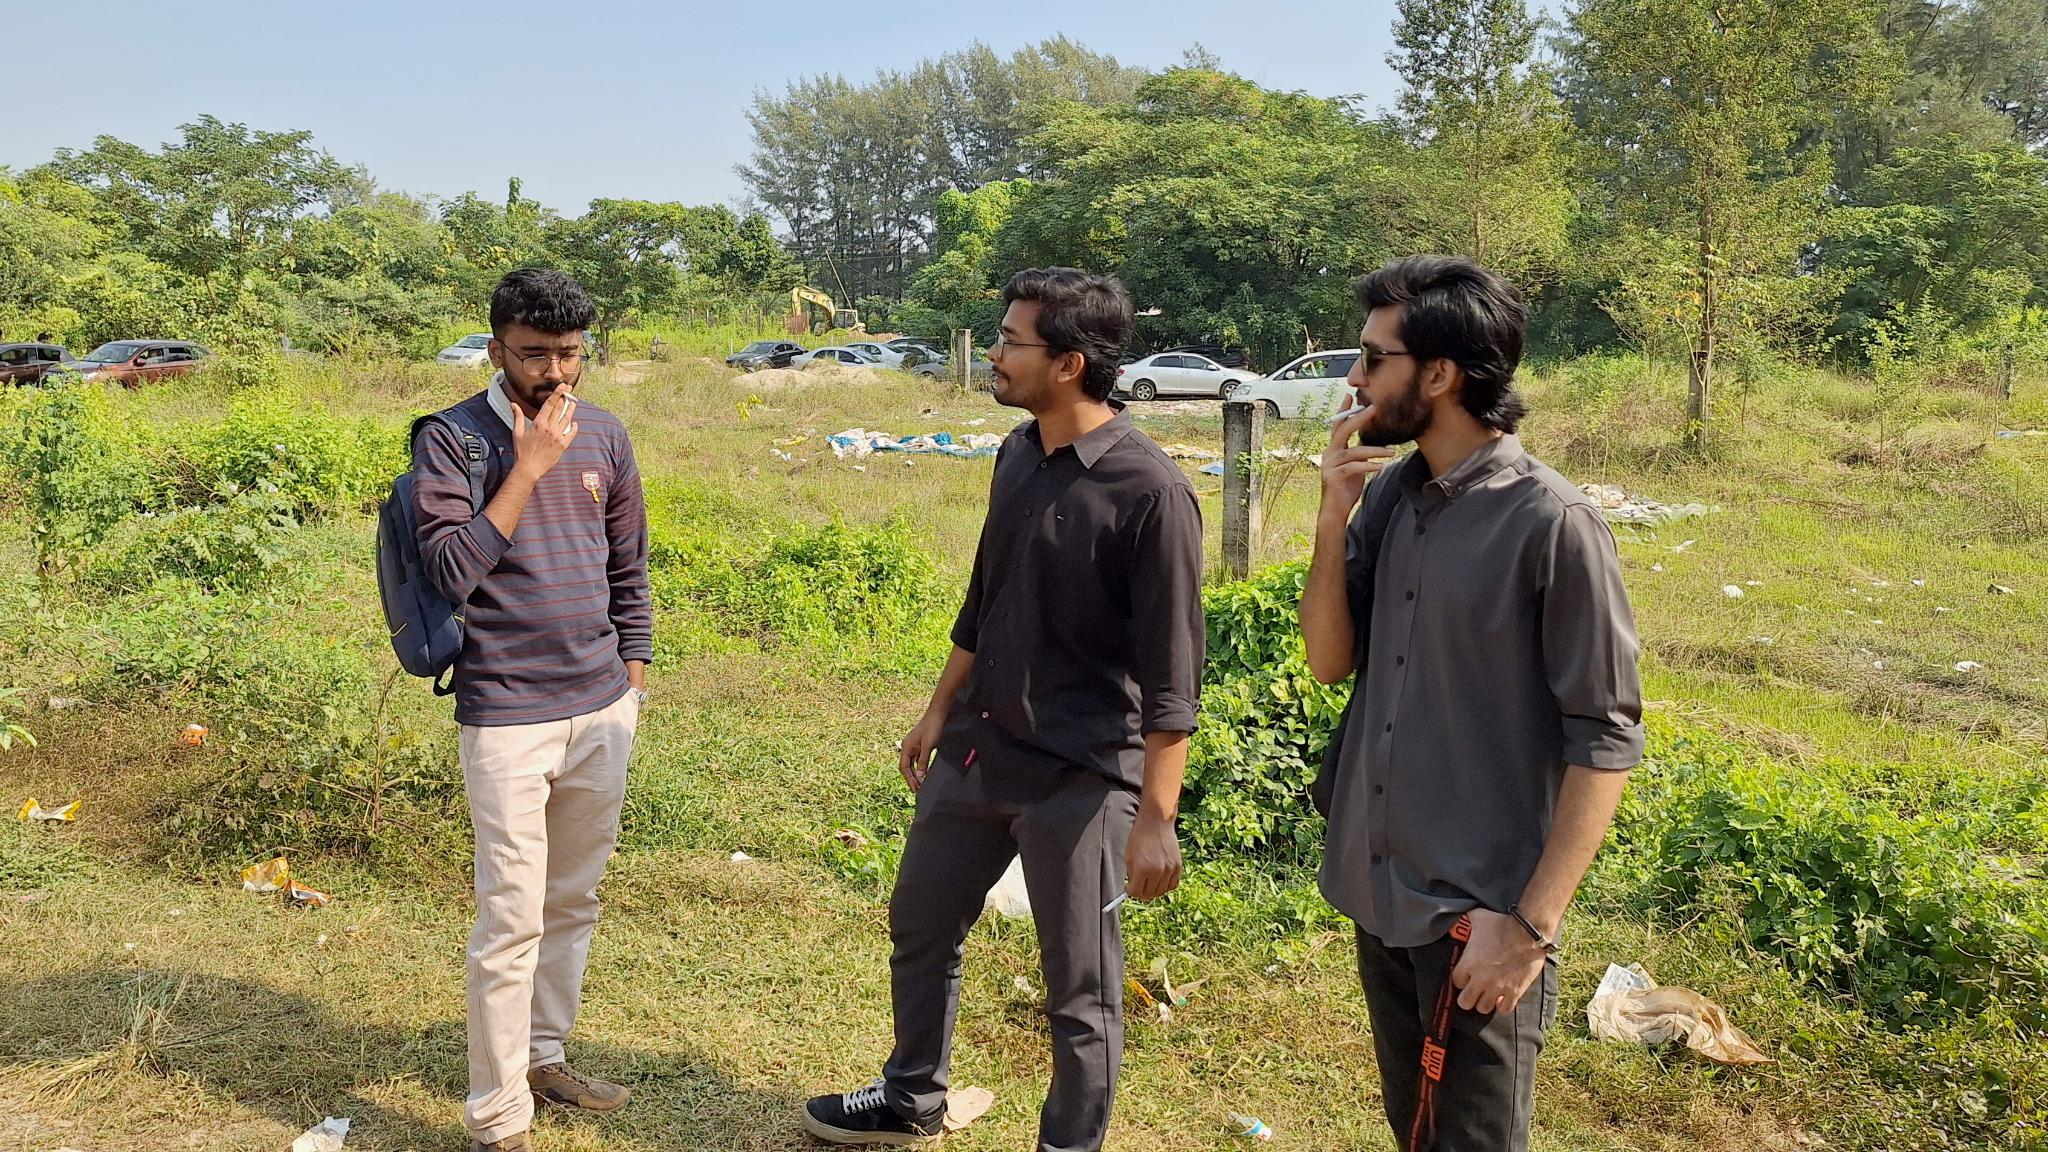cigarette: (1321, 404, 1367, 426), (1100, 890, 1131, 916), (563, 390, 580, 404)
smoker: (802, 266, 1207, 1152), (1298, 255, 1646, 1152), (376, 269, 653, 1152)
